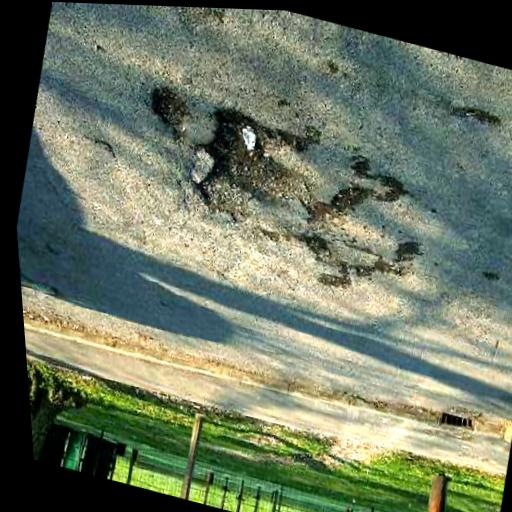pothole: (177, 98, 329, 248), (303, 176, 377, 240), (140, 83, 201, 142)
